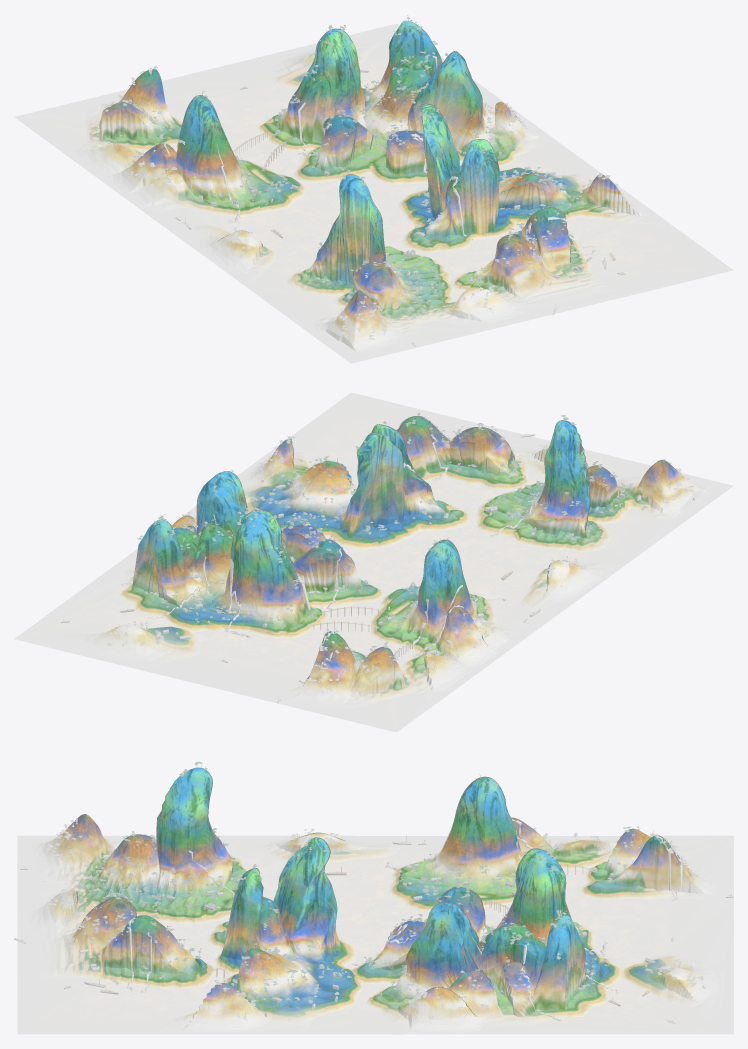
File: Mountain And River Scroll.glb
The picture shows the model from 3 angles, top to bottom: view 1: azimuth 30°, elevation 25°; view 2: azimuth 150°, elevation 25°; view 3: azimuth 270°, elevation 25°; orthographic projection. The views are drawn at different scales.
Visible parts, largest first — view 1: Main, Accesories, Outline; view 2: Main, Accesories, Outline; view 3: Main, Accesories, Outline, Outline_VertexCollorBackFace_0.001.
Boxes of the visible parts, x1=… form: Main: x1=14, y1=20, x2=733, y2=363; Accesories: x1=101, y1=15, x2=625, y2=346; Outline: x1=116, y1=22, x2=618, y2=301; Main: x1=14, y1=392, x2=733, y2=732; Accesories: x1=61, y1=413, x2=694, y2=702; Outline: x1=132, y1=416, x2=694, y2=685; Main: x1=17, y1=768, x2=733, y2=1034; Accesories: x1=14, y1=761, x2=733, y2=1024; Outline: x1=51, y1=767, x2=689, y2=1016; Outline_VertexCollorBackFace_0.001: x1=487, y1=777, x2=556, y2=1014.
Size of the model in its own units: 104 by 29.38 by 160.
3 materials, 1 textured.
